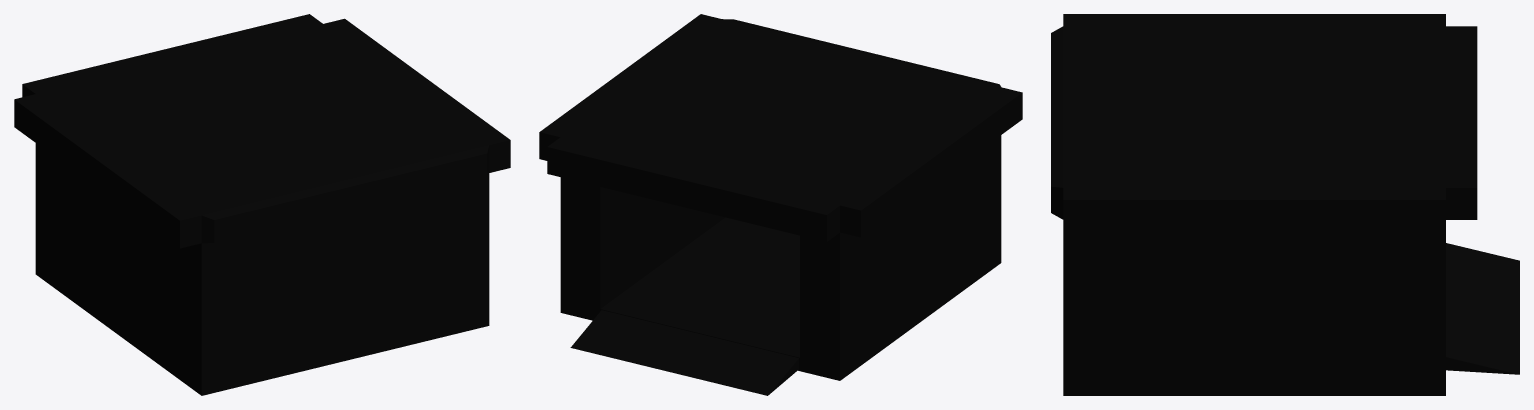
Rendered from Enemy_Base.obj.
3 views of the same model, side by side, from view 1: azimuth 30°, elevation 25°; view 2: azimuth 150°, elevation 25°; view 3: azimuth 270°, elevation 25° (orthographic). The views are drawn at different scales.
Parts seen in each view (by area): view 1: pCube1; view 2: pCube1, pCube2; view 3: pCube1, pCube2.
Part boxes in pixels (left/top/right/bottom): pCube1: left=14, top=14, right=510, bottom=395; pCube1: left=539, top=14, right=1022, bottom=380; pCube2: left=570, top=310, right=798, bottom=395; pCube1: left=1051, top=14, right=1477, bottom=395; pCube2: left=1446, top=243, right=1519, bottom=374.
Size of the model in its own units: 5.75 by 3.04 by 6.12.
Materials: 1 (1 with a texture image).
